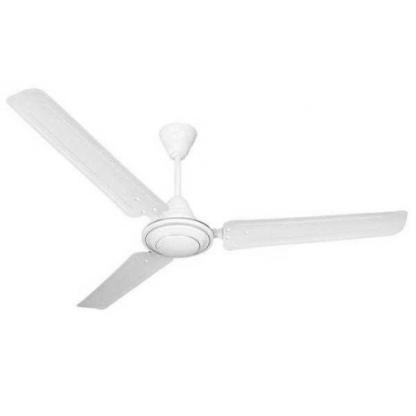ceiling-fan: (5, 86, 406, 310)
